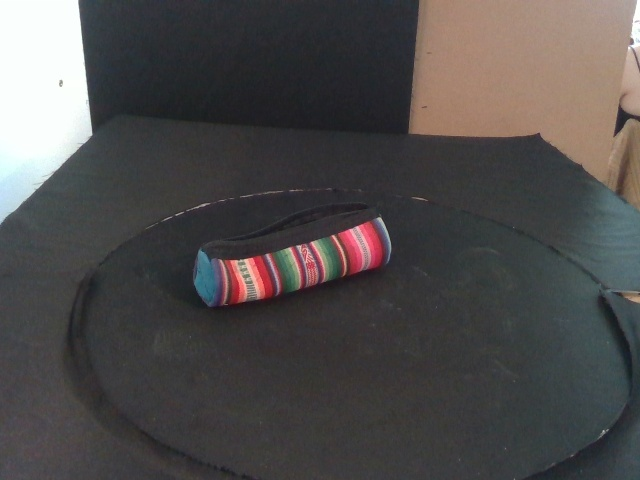pencil_case: (190, 201, 392, 306)
